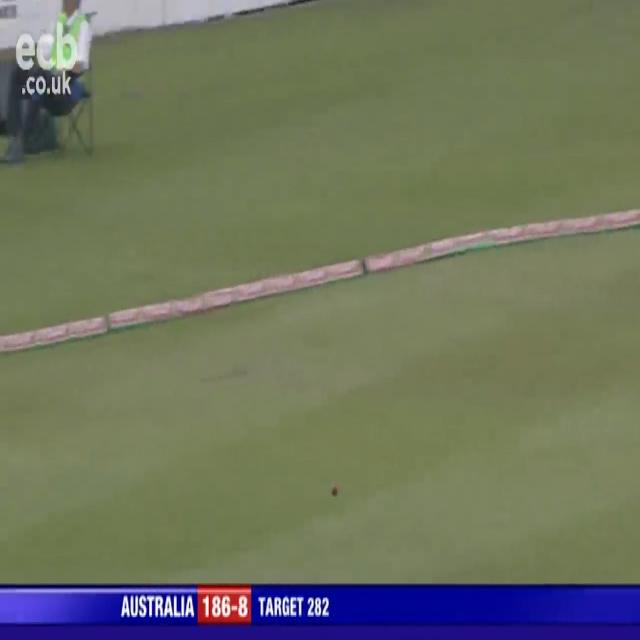ball: (326, 480, 344, 502)
